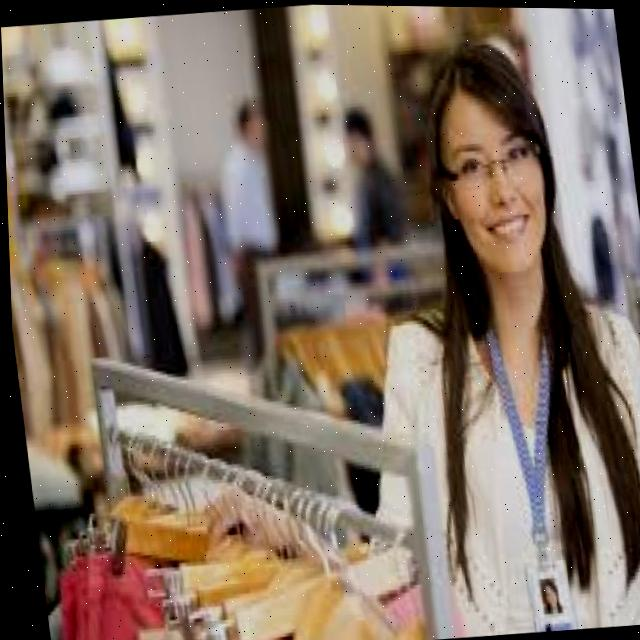id_card: (464, 299, 595, 634)
